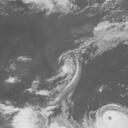cyclone: (94, 103, 126, 127)
